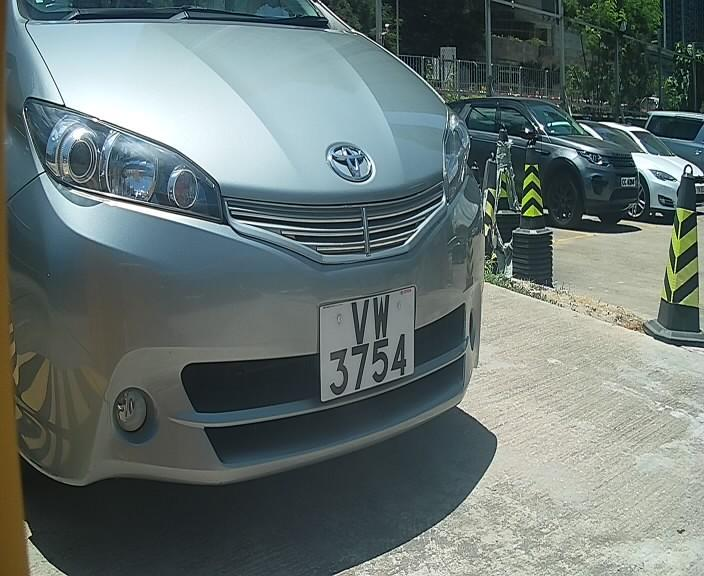privatecar: (1, 6, 510, 528)
